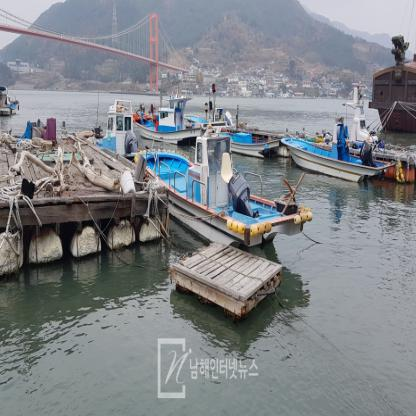fish-b: (134, 118, 313, 256), (280, 80, 400, 196), (134, 76, 212, 153)
